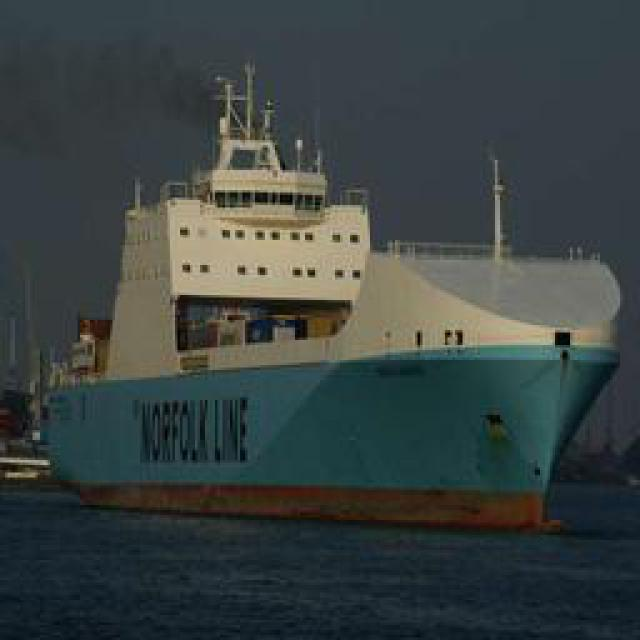Ship: (145, 70, 373, 378)
